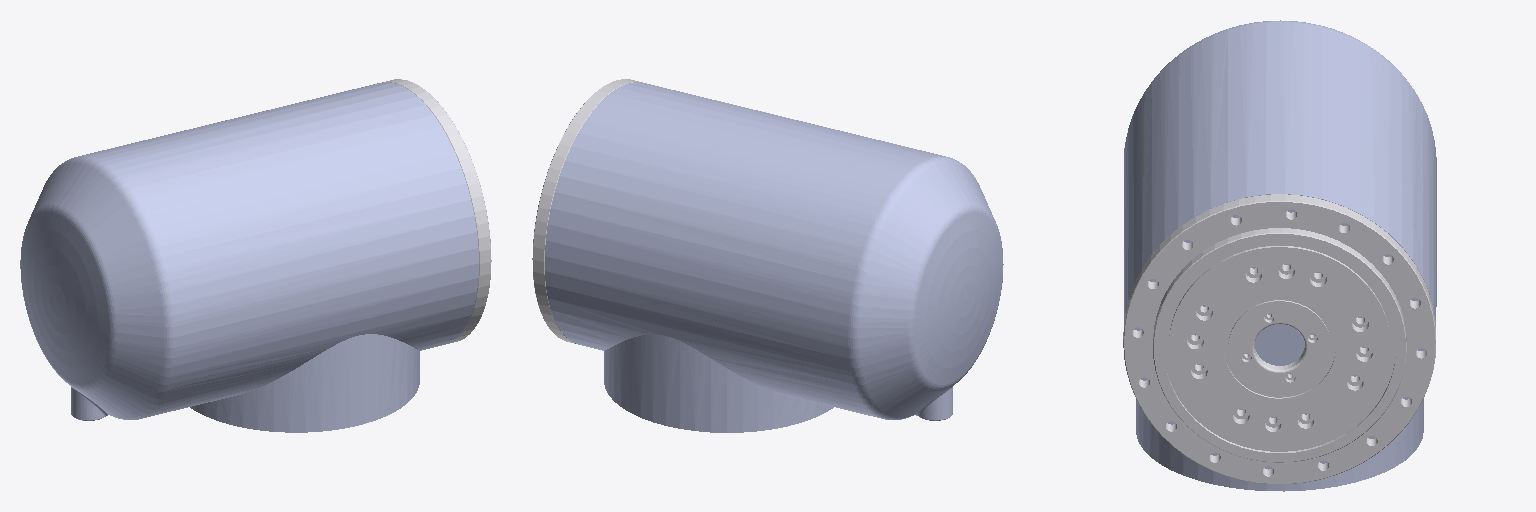
The robot description file, URDF, robot "awjoint32100":
<?xml version="1.0" encoding="utf-8"?>
<!-- This URDF was automatically created by SolidWorks to URDF Exporter! Originally created by [author] ([email redacted]) 
     Commit Version: 1.5.1-0-g916b5db  Build Version: 1.5.7152.31018
     For more information, please see http://wiki.ros.org/sw_urdf_exporter -->
<robot
  name="awjoint32100">
  <link
    name="rifJ32">
    <inertial>
      <origin
        xyz="0 0 -0.1"
        rpy="0 0 0" />
      <mass
        value="13.18" />
      <inertia
        ixx="0.0697"
        ixy="-0.00012109"
        ixz="0"
        iyy="0.052615"
        iyz="6.171E-05"
        izz="0.067697" />
    </inertial>
    <visual>
      <origin
        xyz="0 0 0"
        rpy="3.14 0 0" />
      <geometry>
        <mesh
          filename="package://awjoint32100/meshes/rifJ32.STL" />
      </geometry>
      <material
        name="">
        <color
          rgba="0.79216 0.81961 0.93333 1" />
      </material>
    </visual>
    <collision>
      <origin
        xyz="0 0 0"
        rpy="3.14 0 0" />
      <geometry>
        <mesh
          filename="package://awjoint32100/meshes/rifJ32.STL" />
      </geometry>
    </collision>
  </link>
  <link
    name="J32">
    <inertial>
      <origin
        xyz="0 0 -0.01"
        rpy="0 0 0" />
      <mass
        value="0.99" />
      <inertia
        ixx="0.002116"
        ixy="0"
        ixz="0"
        iyy="0.002116"
        iyz="-2.8993E-20"
        izz="0.004099" />
    </inertial>
    <visual>
      <origin
        xyz="0 0 0"
        rpy="0 0 0" />
      <geometry>
        <mesh
          filename="package://awjoint32100/meshes/J32.STL" />
      </geometry>
      <material
        name="">
        <color
          rgba="0.8902 0.8902 0.91373 1" />
      </material>
    </visual>
    <collision>
      <origin
        xyz="0 0 0"
        rpy="0 0 0" />
      <geometry>
        <mesh
          filename="package://awjoint32100/meshes/J32.STL" />
      </geometry>
    </collision>
  </link>
  <joint
    name="J32"
    type="revolute">
    <origin
      xyz="0.1085 0 +0.1005"
      rpy="0 1.5708 0" />
    <parent
      link="rifJ32" />
    <child
      link="J32" />
    <axis
      xyz="0 0 -1" />
    <limit
      lower="-3.14"
      upper="3.14"
      effort="360"
      velocity="1.2436" />
    <dynamics
      damping="1"
      friction="0.1" />
  </joint>
</robot>

--- What the picture shows (computed from the rendered views, not written in the file) ---
Views: 3 orthographic renders of the robot side by side, from view 1: azimuth 30°, elevation 25°; view 2: azimuth 150°, elevation 25°; view 3: azimuth 270°, elevation 25°.
Robot: awjoint32100 — 2 links, 1 joints (1 revolute); root link rifJ32; default pose: every joint at zero.
Links seen in each view (by area): view 1: rifJ32, J32; view 2: rifJ32, J32; view 3: J32, rifJ32.
Link boxes in pixels (x1,y1,x2,y2): rifJ32: (20,82,478,432); J32: (382,79,491,344); rifJ32: (545,82,1003,432); J32: (532,79,638,343); J32: (1123,194,1435,483); rifJ32: (1124,20,1436,491).
Bounding box of the posed robot: 0.2973 × 0.1852 × 0.1971 m (x, y, z).
2 mesh visuals loaded from 2 distinct referenced files (2 binary STL).